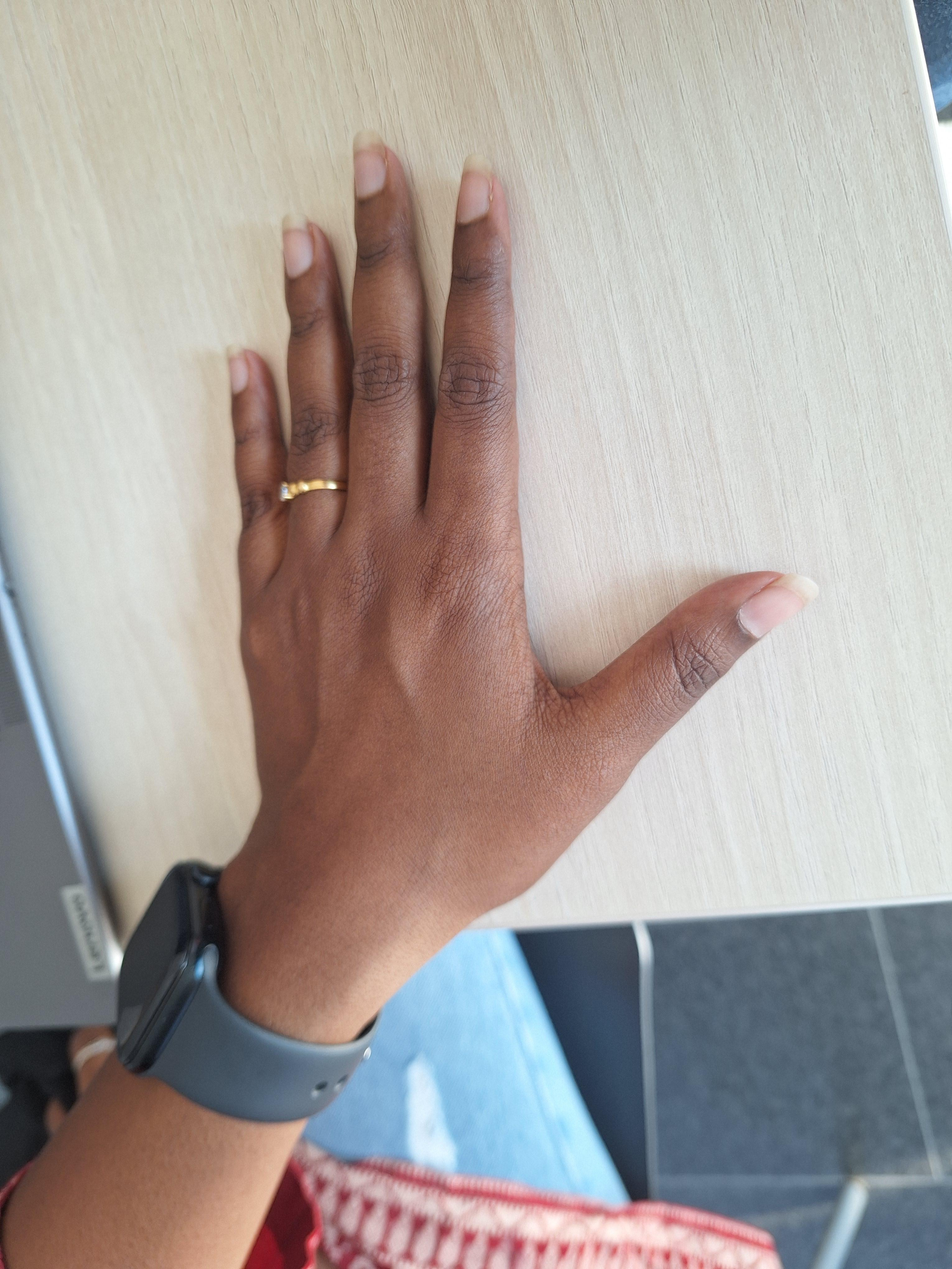Fingernail: (740, 573, 820, 638), (457, 153, 492, 224), (353, 129, 387, 198), (281, 214, 313, 278), (227, 344, 250, 394)
